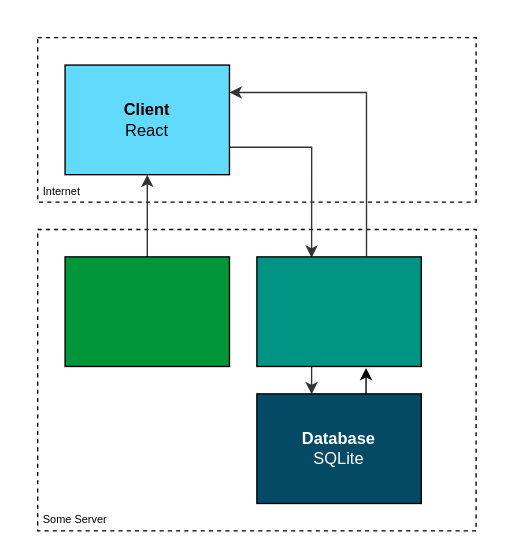
The diagram is 512 pixels wide and 555 high, and some of its shapes have lost their labels. Each missing label, with the centre of its shape:
Backend FastAPI: pixel 338 311
HTTP Server nginx: pixel 146 311
